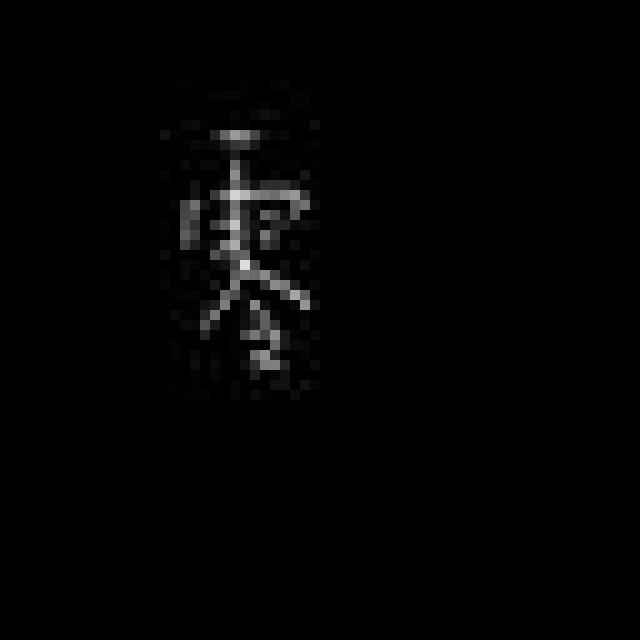0 -zero-: (163, 118, 324, 380)
